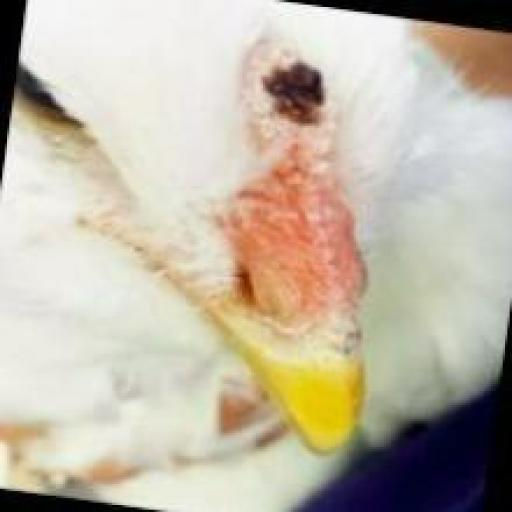disease: (248, 57, 346, 146), (218, 242, 322, 325)
